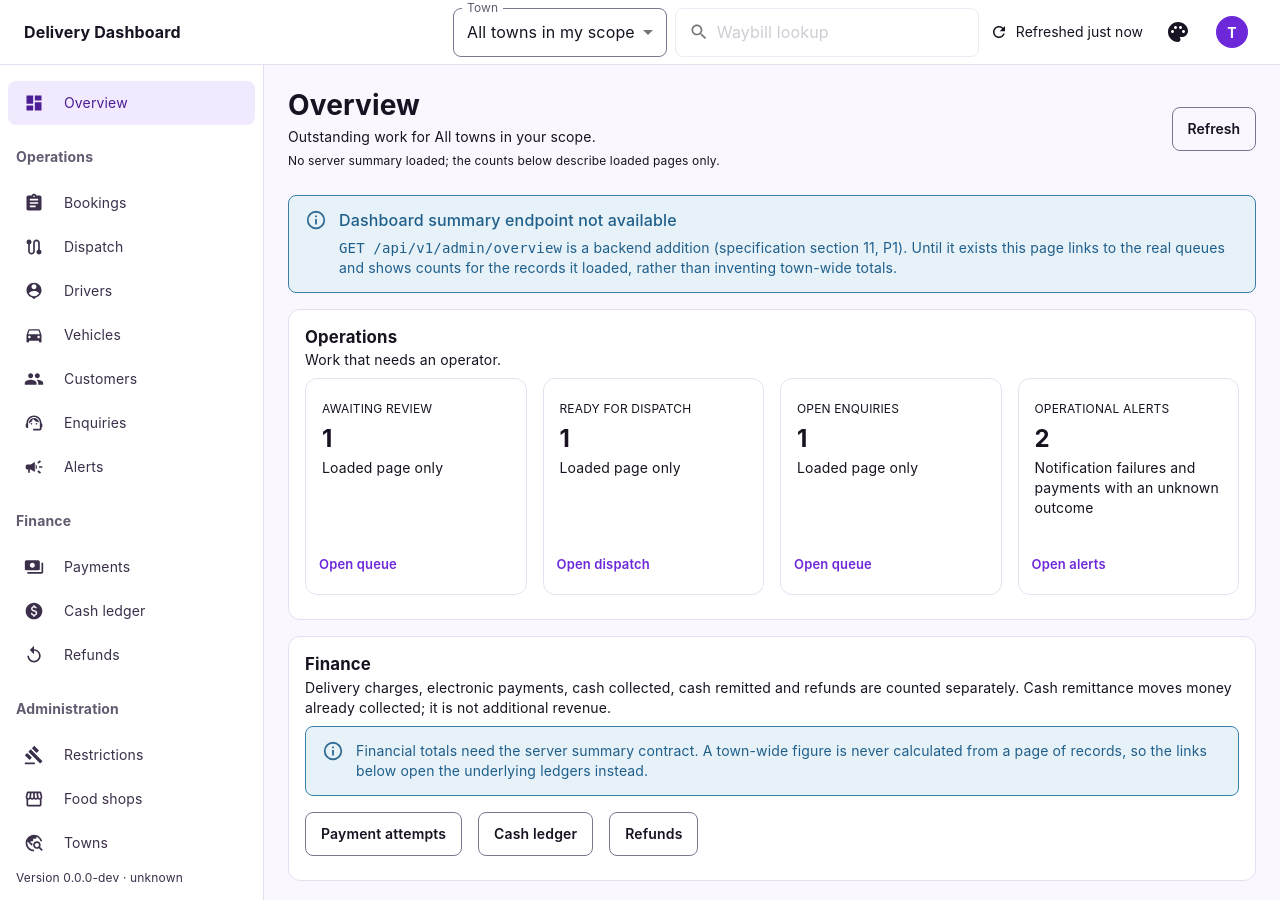
Test: someone signed in as the other role › offers neither shell a switch link when the number holds one role
This screenshot has width=1280, height=900.
Check: the heading "Overview" is shown, box [288,88,420,122]
Step 1. Click the button named "Account menu" → click(1232, 32), box [1208,8,1256,56]
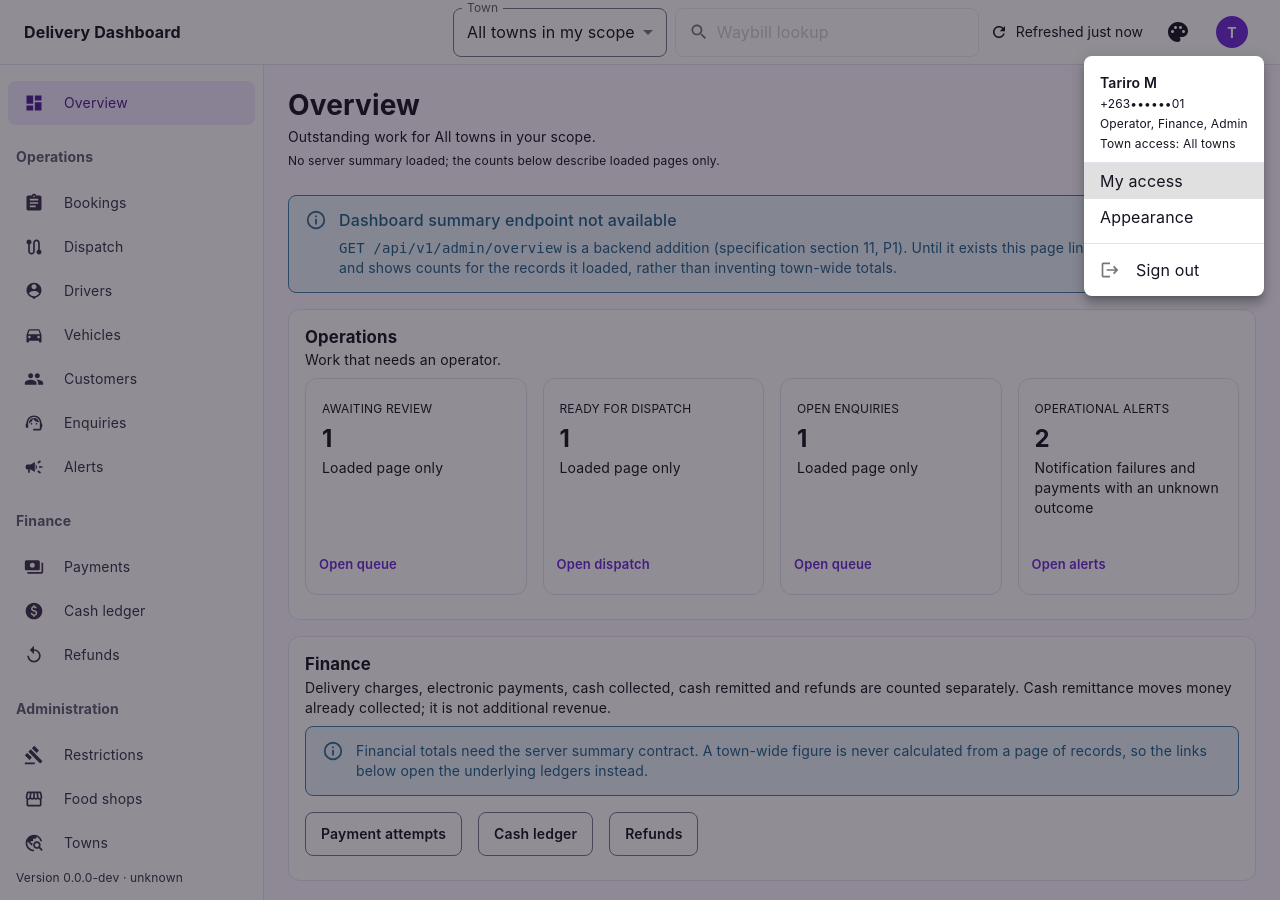
Check: the menu item "Sign out" is shown, box [1100,260,1199,280]
